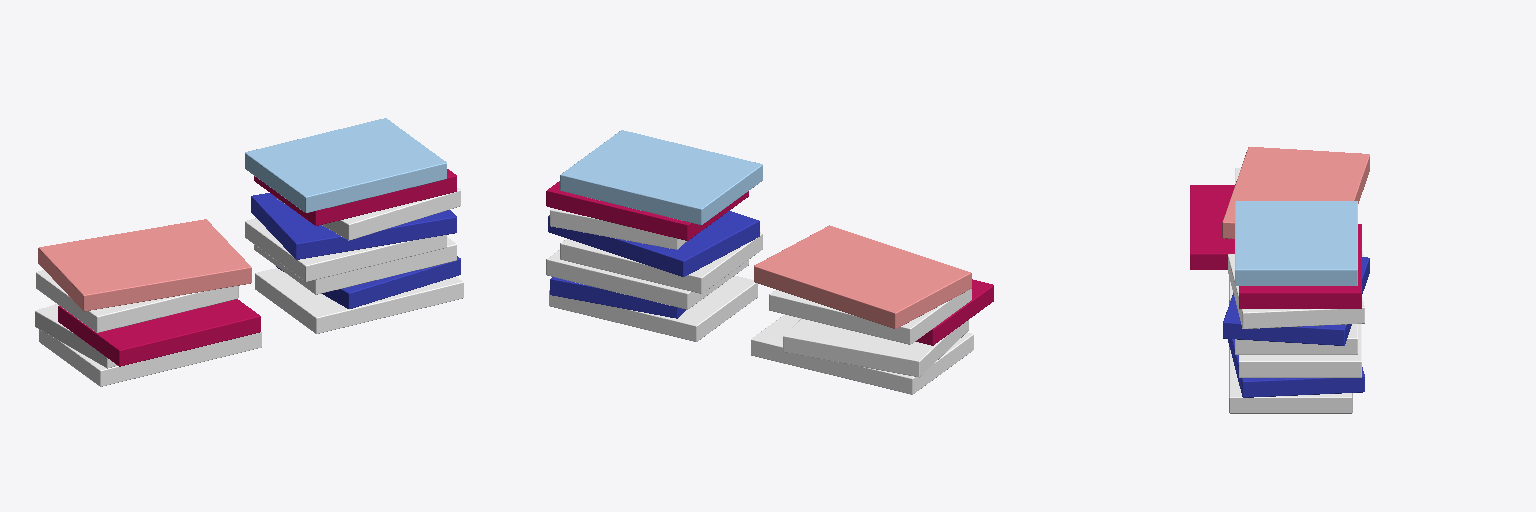
The model's file is book3_1.obj.
The picture shows the model from 3 angles: view 1: azimuth 30°, elevation 25°; view 2: azimuth 150°, elevation 25°; view 3: azimuth 270°, elevation 25°; orthographic projection.
Visible parts, largest first — view 1: 立方体.11, 立方体, 立方体.13, 立方体.15_1, 立方体.11_1, 立方体.12_1, 立方体.12, 立方体.15, 立方体.13_1, 立方体.1, 立方体.14_1, 立方体.2 (+1 smaller); view 2: 立方体.11, 立方体, 立方体.14, 立方体.11_1, 立方体.15_1, 立方体.15, 立方体.12_1, 立方体.12, 立方体.1, 立方体.13_1, 立方体.14_1, 立方体.2 (+1 smaller); view 3: 立方体, 立方体.11, 立方体.13, 立方体.1, 立方体.13_1, 立方体.15_1, 立方体.11_1, 立方体.2, 立方体.14_1, 立方体.12_1.
Part boxes in pixels (left/top/right/bottom): 立方体.11: left=38, top=219, right=251, bottom=311; 立方体: left=245, top=118, right=446, bottom=212; 立方体.13: left=58, top=299, right=260, bottom=366; 立方体.15_1: left=255, top=268, right=463, bottom=333; 立方体.11_1: left=251, top=193, right=456, bottom=259; 立方体.12_1: left=245, top=218, right=446, bottom=281; 立方体.12: left=36, top=270, right=238, bottom=332; 立方体.15: left=39, top=329, right=261, bottom=386; 立方体.13_1: left=254, top=237, right=456, bottom=294; 立方体.1: left=254, top=169, right=456, bottom=225; 立方体.14_1: left=276, top=256, right=460, bottom=308; 立方体.2: left=277, top=188, right=460, bottom=240; 立方体.11: left=754, top=225, right=971, bottom=328; 立方体: left=560, top=130, right=762, bottom=224; 立方体.14: left=783, top=319, right=968, bottom=377; 立方体.11_1: left=548, top=211, right=759, bottom=276; 立方体.15_1: left=549, top=276, right=757, bottom=341; 立方体.15: left=751, top=315, right=973, bottom=394; 立方体.12_1: left=560, top=232, right=762, bottom=293; 立方体.12: left=769, top=289, right=971, bottom=344; 立方体.1: left=546, top=181, right=748, bottom=240; 立方体.13_1: left=546, top=250, right=748, bottom=309; 立方体.14_1: left=550, top=277, right=685, bottom=318; 立方体.2: left=550, top=208, right=686, bottom=249; 立方体: left=1235, top=201, right=1357, bottom=285; 立方体.11: left=1222, top=147, right=1369, bottom=238; 立方体.13: left=1190, top=185, right=1234, bottom=269; 立方体.1: left=1239, top=224, right=1361, bottom=308; 立方体.13_1: left=1239, top=324, right=1361, bottom=377; 立方体.15_1: left=1229, top=347, right=1352, bottom=413; 立方体.11_1: left=1223, top=257, right=1369, bottom=345; 立方体.2: left=1228, top=254, right=1364, bottom=328; 立方体.14_1: left=1228, top=339, right=1364, bottom=397; 立方体.12_1: left=1235, top=324, right=1357, bottom=354.
Bounding box in the file's own units: 92.81 × 32.4 × 38.57.